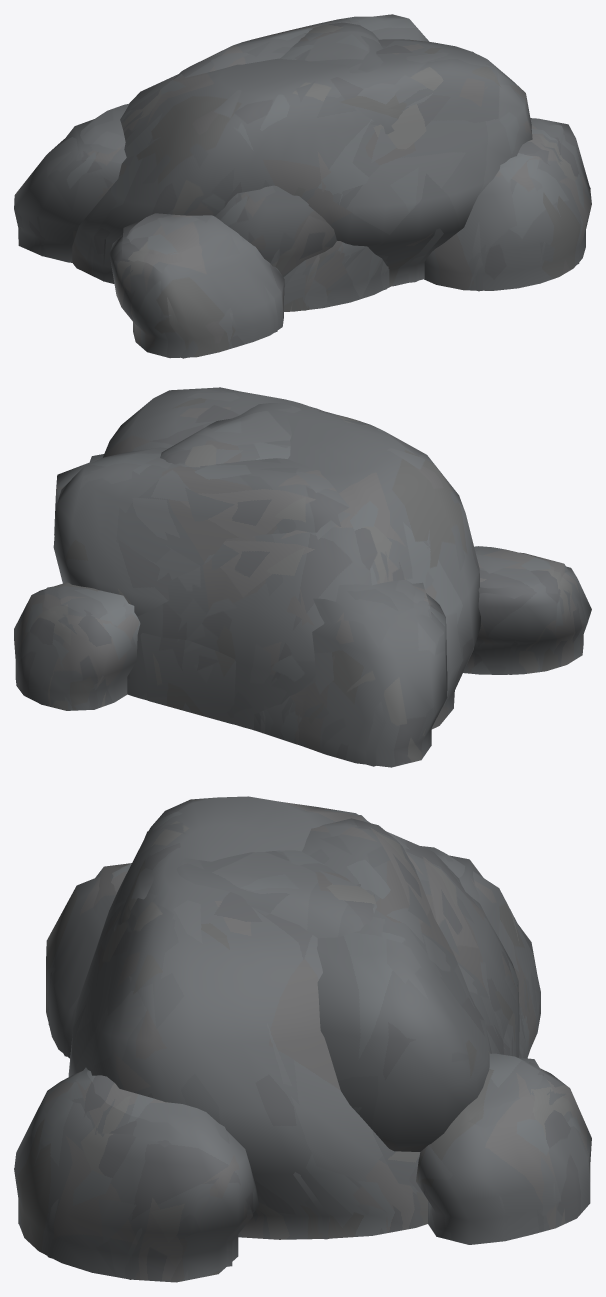
Rendered from roundlarge.gltf.
The picture shows the model from 3 angles, top to bottom: view 1: azimuth 30°, elevation 25°; view 2: azimuth 150°, elevation 25°; view 3: azimuth 270°, elevation 25°; orthographic projection. The views are drawn at different scales.
Parts seen in each view (by area): view 1: lod0, shadow; view 2: lod0, shadow; view 3: lod0, shadow.
Part boxes in pixels (left/top/right/bottom): lod0: left=14, top=14, right=591, bottom=358; shadow: left=36, top=51, right=590, bottom=358; lod0: left=14, top=387, right=591, bottom=767; shadow: left=16, top=409, right=574, bottom=766; lod0: left=14, top=796, right=591, bottom=1282; shadow: left=14, top=814, right=590, bottom=1279.
Size of what is drawn, in the model's own units: 3.69 by 1.49 by 2.8.
Materials: 1 (1 with a texture image).
